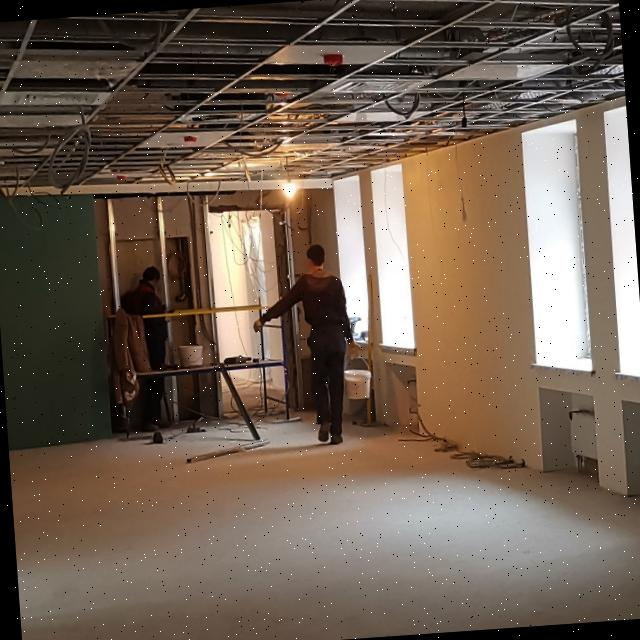NoHelmet: (303, 242, 332, 277), (143, 266, 164, 291)
